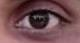open: (5, 1, 77, 40)
